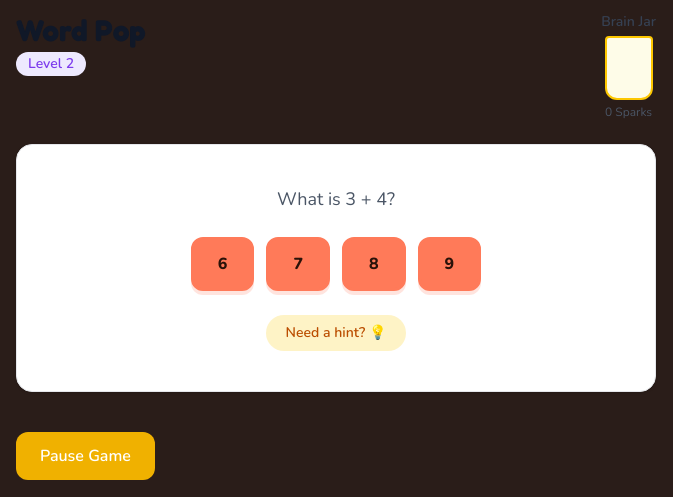
GameplayPage — Story 8.2 AI features › hint-button disappears after the player answers (timer resets) (AC2)
Expected: the button with test id "hint-button" is shown, [266,315,406,351]
Click the button "7": coordinates (298, 264) [266,237,330,291]
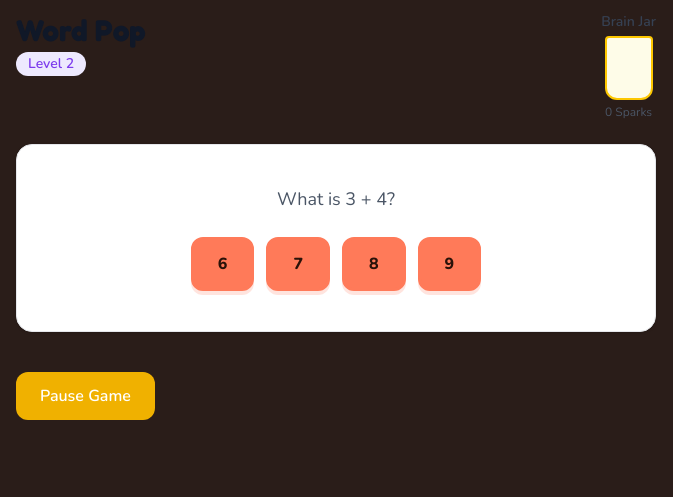
Expected: the button with test id "hint-button" is gone
